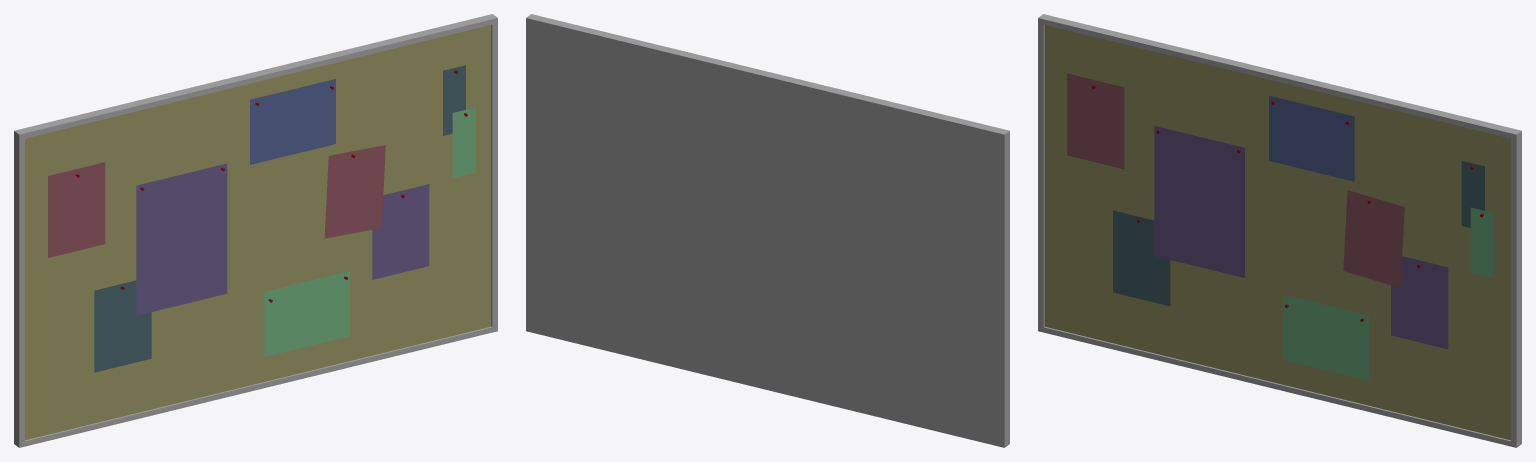
File: BullitinBoard.fbx
3 views of the same model, side by side, from view 1: azimuth 30°, elevation 25°; view 2: azimuth 150°, elevation 25°; view 3: azimuth 330°, elevation 25° (orthographic).
Parts seen in each view (by area): view 1: pPlane10; view 2: pPlane10; view 3: pPlane10.
Part boxes in pixels (<box>): pPlane10: <box>14,14,497,447</box>; pPlane10: <box>526,14,1009,447</box>; pPlane10: <box>1038,14,1521,447</box>.
Bounding box in the file's own units: 3830 × 2396 × 100.
